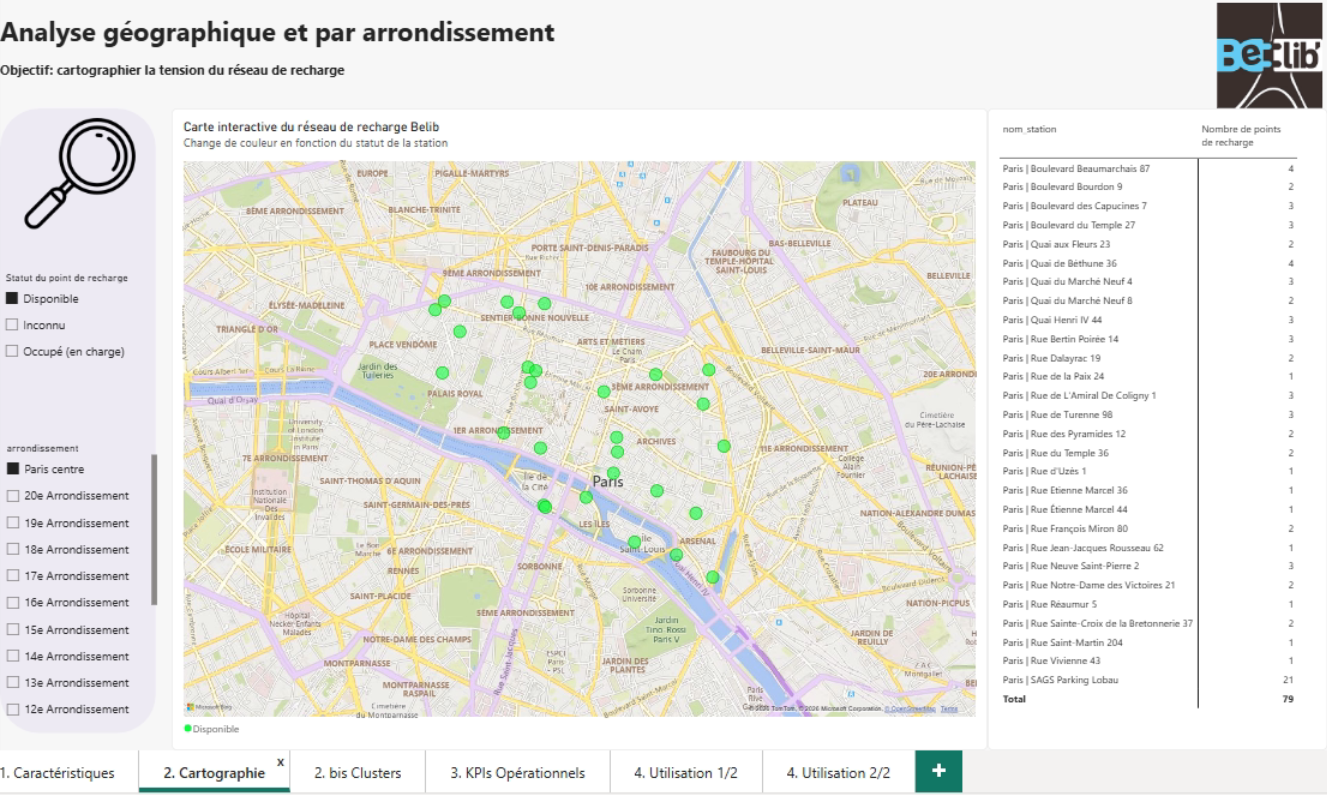

The dashboard page shown, as its layout file describes it:
{"tool":"powerbi","page":{"name":"2. Cartographie","canvas":[1920,1080],"ordinal":1},"visuals":[{"type":"shape","box":[0,166,222,890],"z":0},{"type":"map","title":"Carte interactive du réseau de recharge Belib","fields":{"Series":["belib_db fait_dispo.Statut du point de recharge"],"X":["belib_db dim_statique.longitude"],"Y":["belib_db dim_statique.latitude"]},"box":[244,166,1162,914],"z":1000},{"type":"slicer","fields":{"Values":["belib_db fait_dispo.Statut du point de recharge"]},"box":[0,398,222,226],"z":2000},{"type":"textbox","box":[0,30,1180,168],"z":4000},{"type":"image","box":[24,180,180,158],"z":5000},{"type":"pivotTable","fields":{"Rows":["belib_db dim_statique.nom_station"],"Values":["belib_db dim_statique.Nombre de points de recharge"]},"box":[1406,166,484,914],"z":5001},{"type":"slicer","fields":{"Values":["belib_db dim_statique.arrondissement"]},"box":[2,640,222,390],"z":5002},{"type":"image","box":[1695.2,15.4,226,150],"z":5003}]}

Visuals, with their boxes on the page's 1920x1080 design canvas (x1, y1, x2, y2). These are canvas units, not pixel positions in the 1327x795 screenshot, which may show the page scaled, cropped or inside an application window:
shape: x1=0 y1=166 x2=222 y2=1056
"Carte interactive du réseau de recharge Belib" map: x1=244 y1=166 x2=1406 y2=1080
slicer - belib_db fait_dispo.Statut du point de recharge: x1=0 y1=398 x2=222 y2=624
textbox: x1=0 y1=30 x2=1180 y2=198
image: x1=24 y1=180 x2=204 y2=338
pivotTable - belib_db dim_statique.nom_station x belib_db dim_statique.Nombre de points de recharge: x1=1406 y1=166 x2=1890 y2=1080
slicer - belib_db dim_statique.arrondissement: x1=2 y1=640 x2=224 y2=1030
image: x1=1695 y1=15 x2=1921 y2=165
